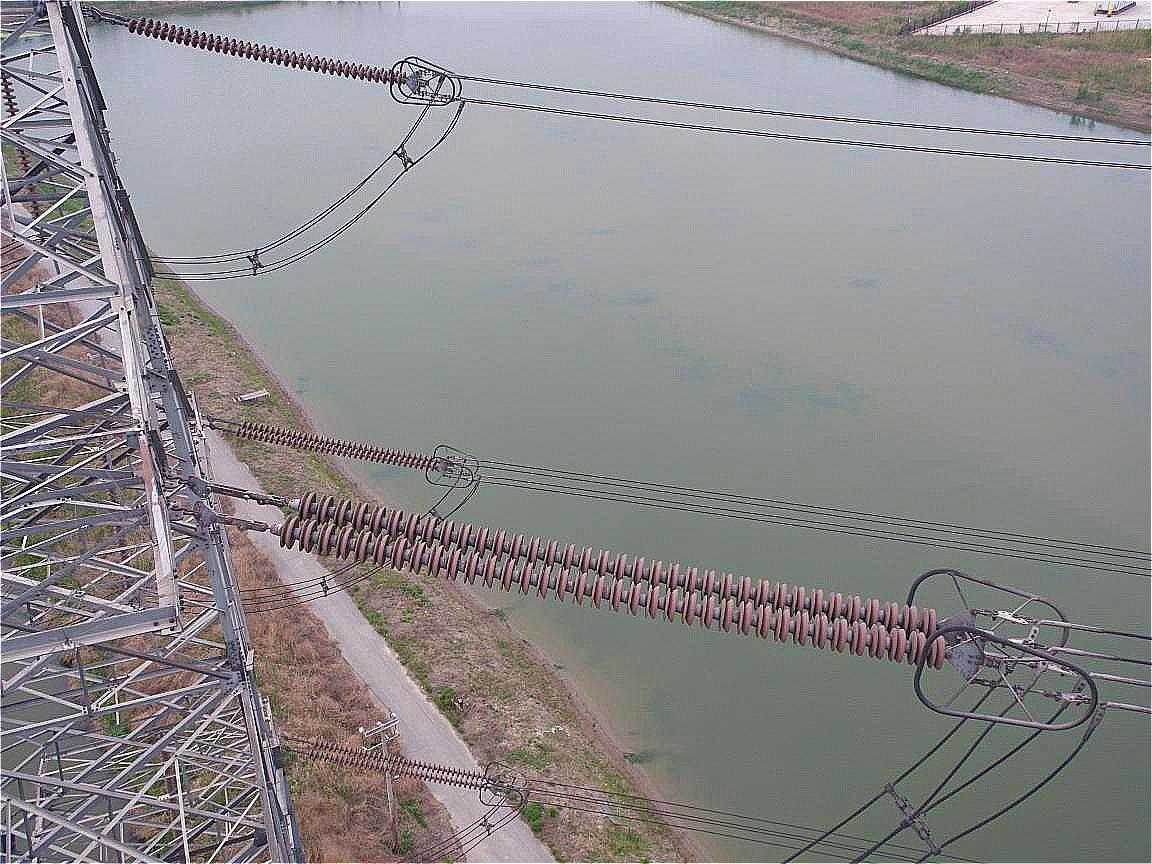insultor1: (126, 15, 408, 86), (234, 420, 440, 472), (309, 742, 494, 792)
insultor2: (279, 490, 945, 670)
